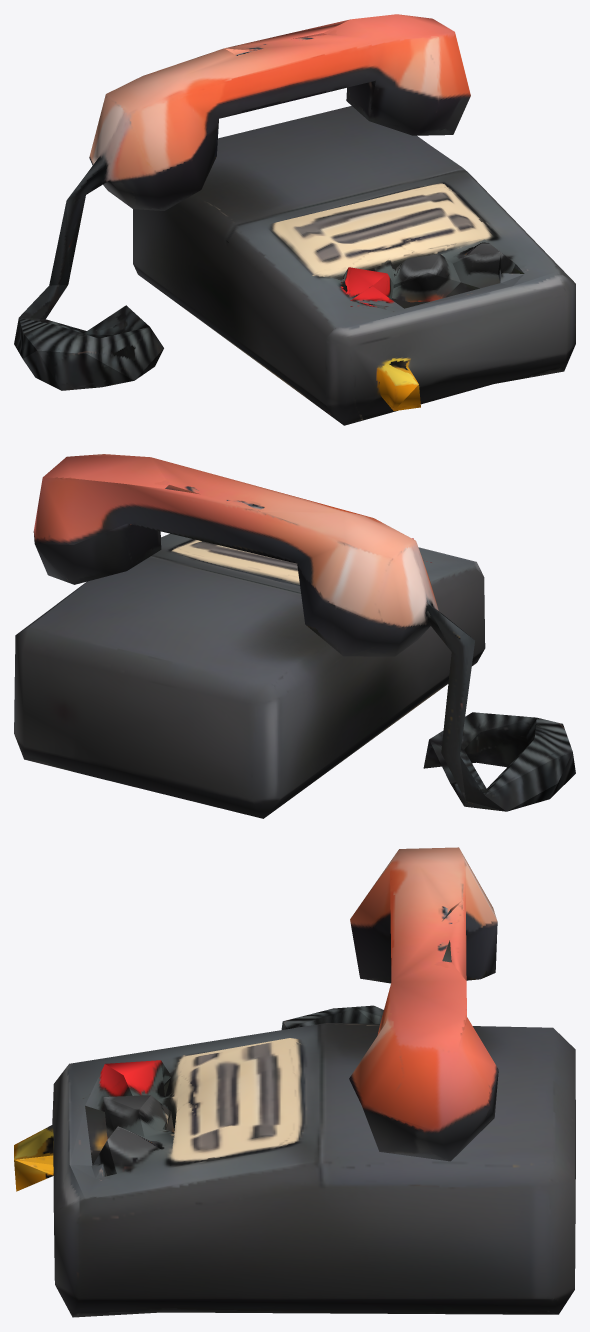
Rendered from acoustic-modem.glb.
3 views of the same model, one above another, from view 1: azimuth 30°, elevation 25°; view 2: azimuth 150°, elevation 25°; view 3: azimuth 270°, elevation 25° (orthographic). The views are drawn at different scales.
Visible parts, largest first — view 1: geometry_0.001; view 2: geometry_0.001; view 3: geometry_0.001.
Part boxes in pixels (<box>): geometry_0.001: <box>14,14,575,425</box>; geometry_0.001: <box>14,454,575,818</box>; geometry_0.001: <box>14,847,575,1317</box>.
Size of the model in its own units: 0.9996 by 0.5195 by 0.8556.
Materials: 1 (1 with a texture image).
